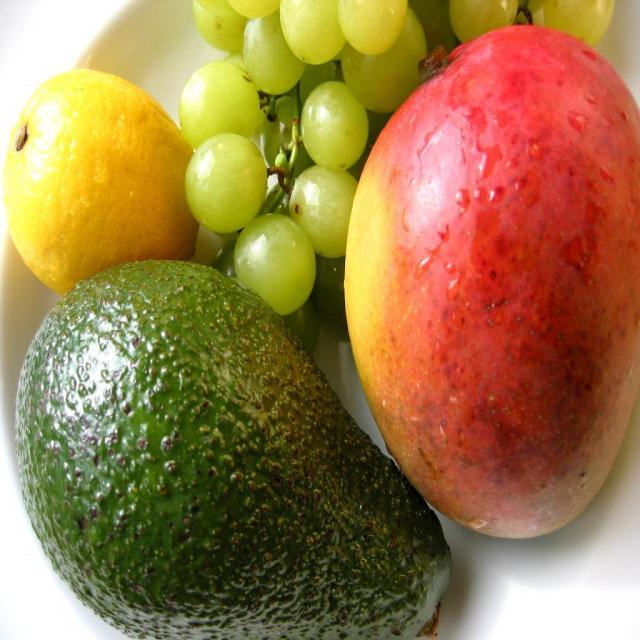Mango: (346, 24, 640, 542)
